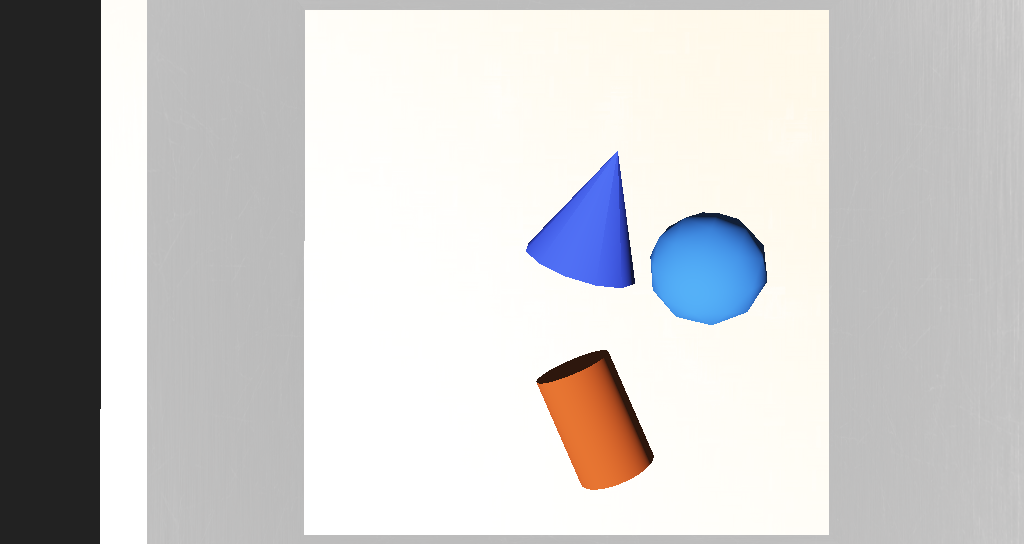cone: (485, 296, 552, 353)
cylinder: (472, 208, 566, 279)
sphere: (546, 246, 613, 289)
